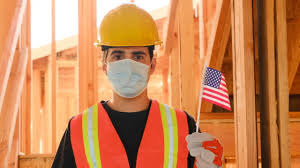Helmet: (94, 9, 167, 50)
Jacket: (60, 103, 186, 168)
Mask: (99, 62, 159, 105)
